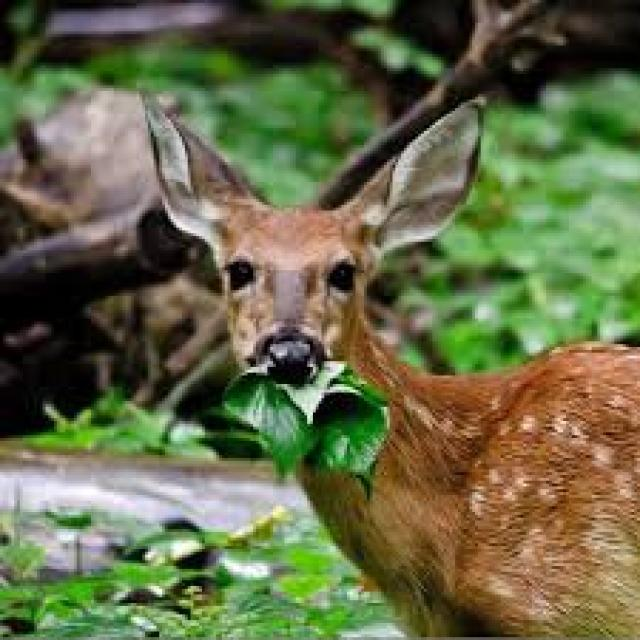deer: (142, 97, 637, 634)
